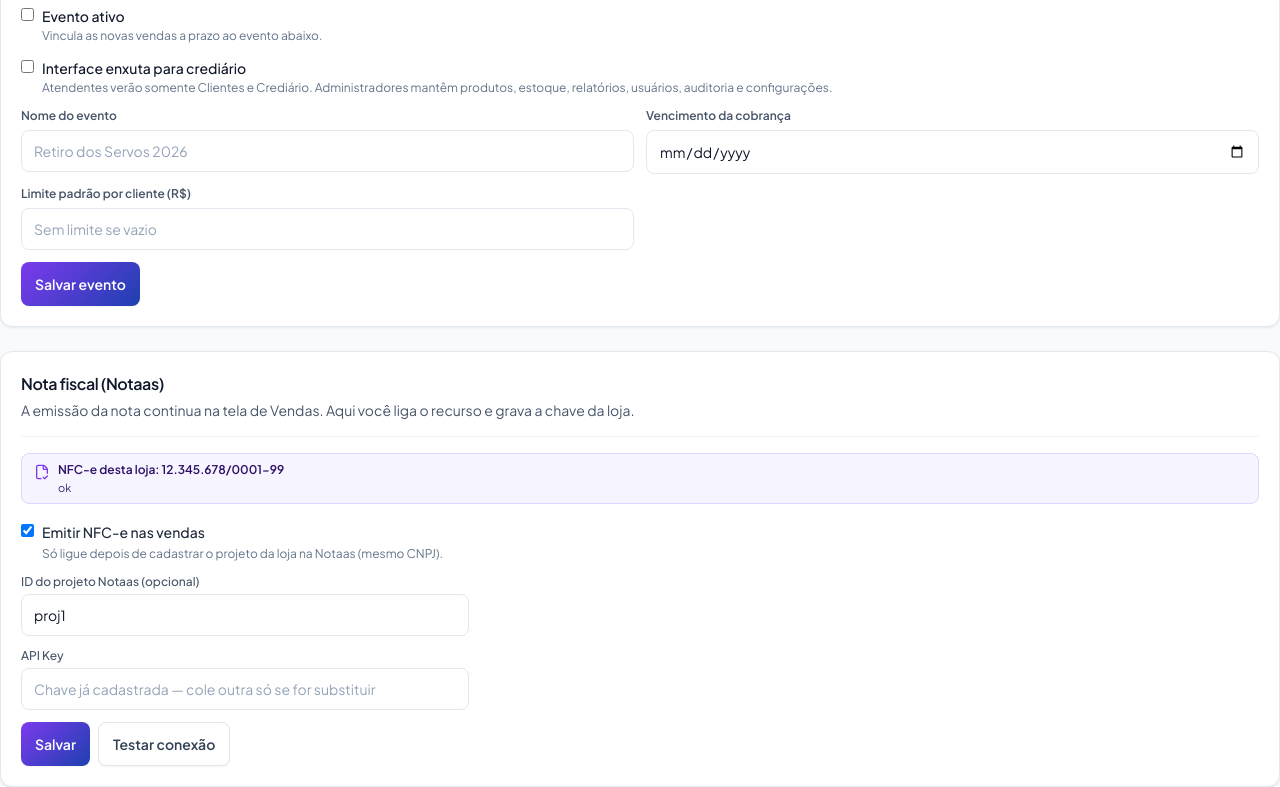
Test case: fluxos profundos › testa conexao notaas
This screenshot has width=1280, height=787.
(page scrolled)
Click the button "Testar conexão".
click(164, 744)  # box [98, 722, 230, 766]
(page scrolled)
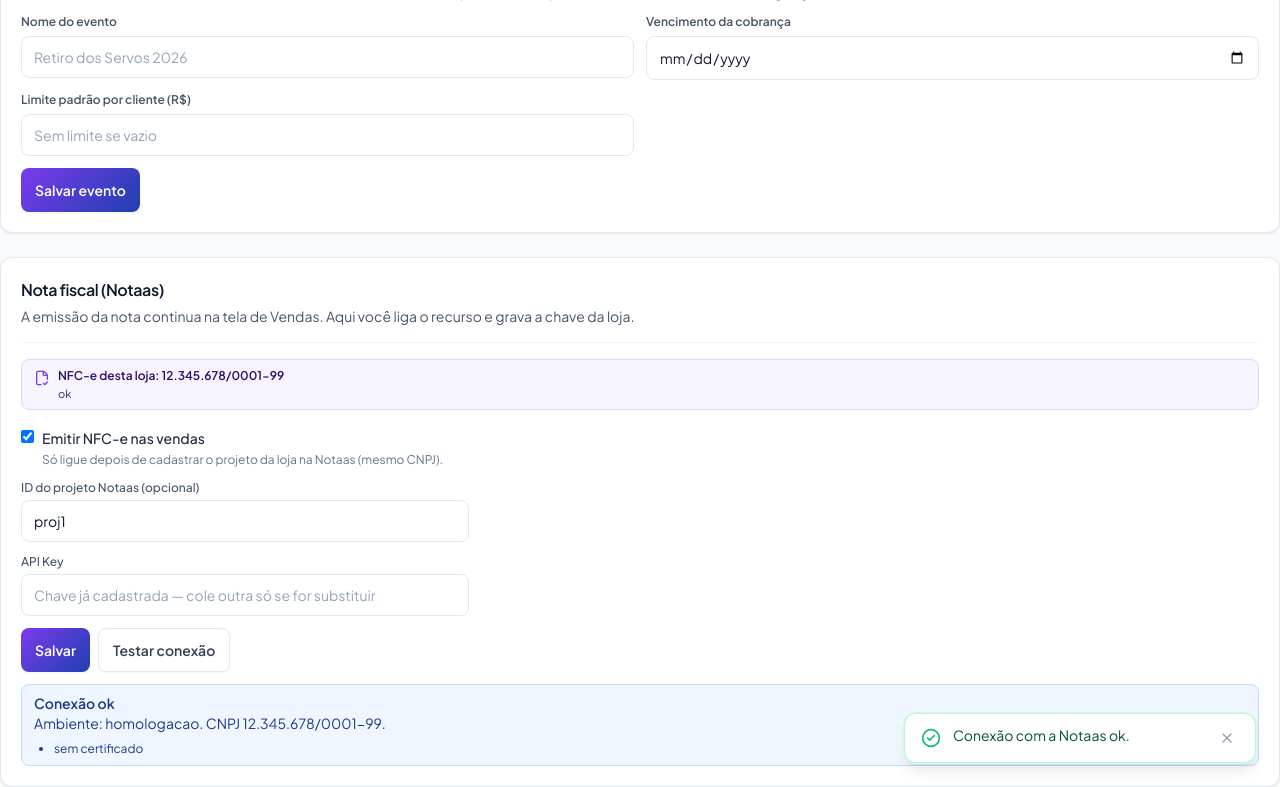
expect the text "Ambiente: homologacao. CNPJ 12.345.678/0001-99." is shown: met, box [34, 714, 386, 732]
